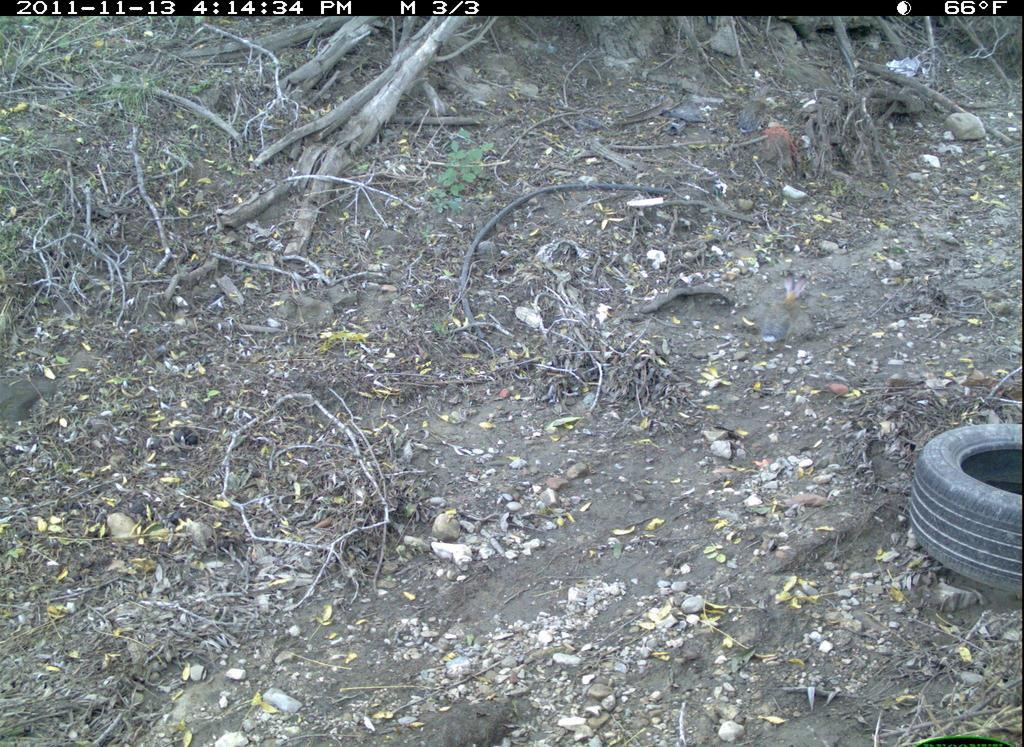rabbit: (756, 271, 813, 356)
